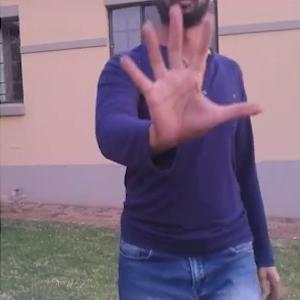follow_hand: (115, 0, 269, 148)
